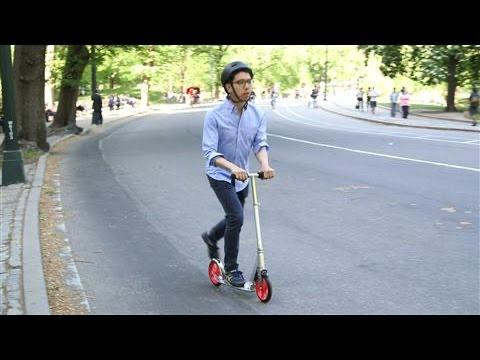With Helmet: (217, 57, 257, 103)
